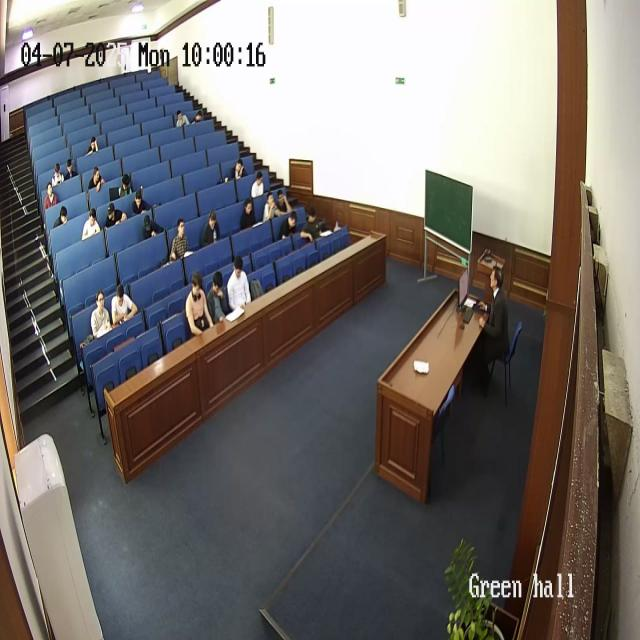person: (472, 264, 509, 389), (185, 271, 213, 337), (227, 255, 253, 315), (205, 271, 232, 325), (110, 281, 138, 328), (168, 216, 192, 261), (90, 292, 112, 341), (299, 208, 327, 244), (80, 205, 102, 241), (201, 209, 221, 248), (239, 197, 259, 232), (103, 199, 126, 229), (278, 210, 300, 241), (261, 188, 279, 222), (141, 213, 161, 240), (130, 188, 150, 214), (250, 167, 267, 197), (44, 180, 60, 210), (52, 202, 70, 228), (88, 167, 104, 193), (118, 172, 134, 198), (230, 156, 246, 180), (51, 162, 65, 186), (174, 108, 190, 128), (275, 186, 286, 215), (64, 159, 78, 180), (86, 136, 98, 156), (192, 107, 204, 127)
